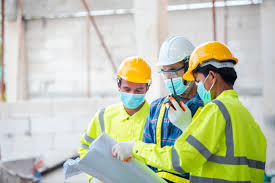Helmet: (183, 48, 245, 76), (117, 56, 159, 84), (154, 36, 195, 64)
Jacket: (192, 105, 272, 183), (83, 109, 149, 183)
Mask: (116, 91, 152, 111), (161, 79, 191, 101), (193, 85, 216, 101)
